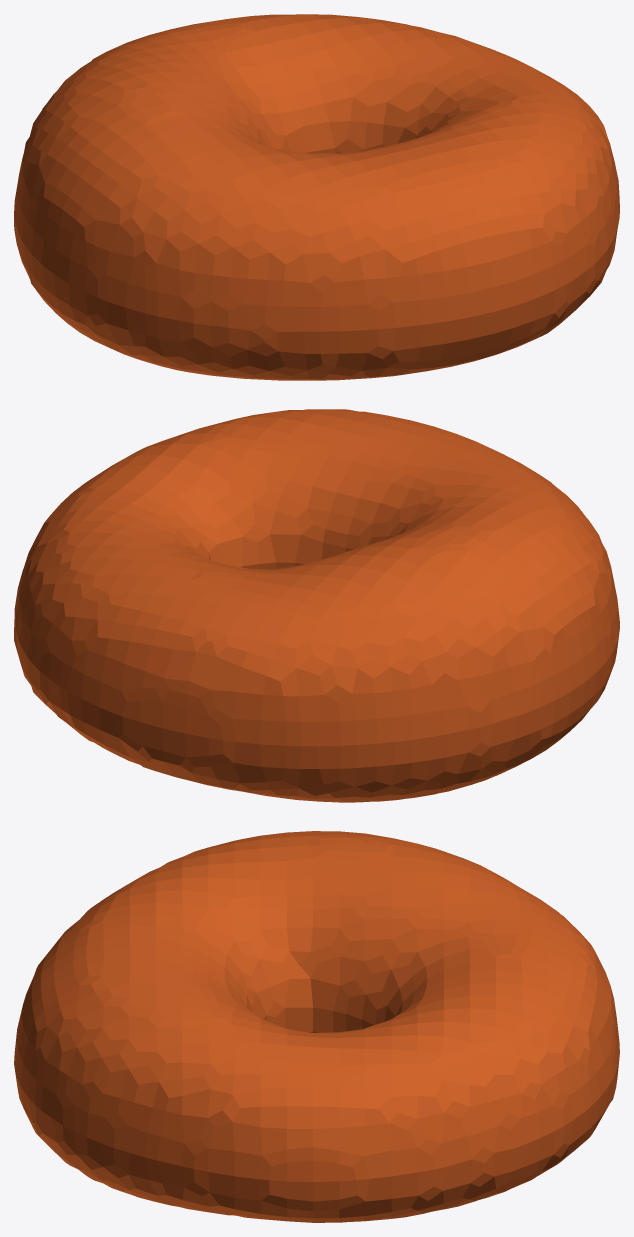
Rendered from donut.obj.
3 views of the same model, one above another, from view 1: azimuth 30°, elevation 25°; view 2: azimuth 150°, elevation 25°; view 3: azimuth 270°, elevation 25° (orthographic).
Visible parts, largest first — view 1: Donut; view 2: Donut; view 3: Donut.
Part boxes in pixels (left/top/right/bottom): Donut: left=14, top=14, right=619, bottom=380; Donut: left=14, top=409, right=619, bottom=802; Donut: left=14, top=831, right=619, bottom=1222.
Size of the model in its own units: 0.1146 by 0.0481 by 0.1122.
